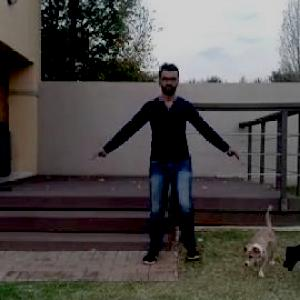land: (81, 76, 238, 254)
